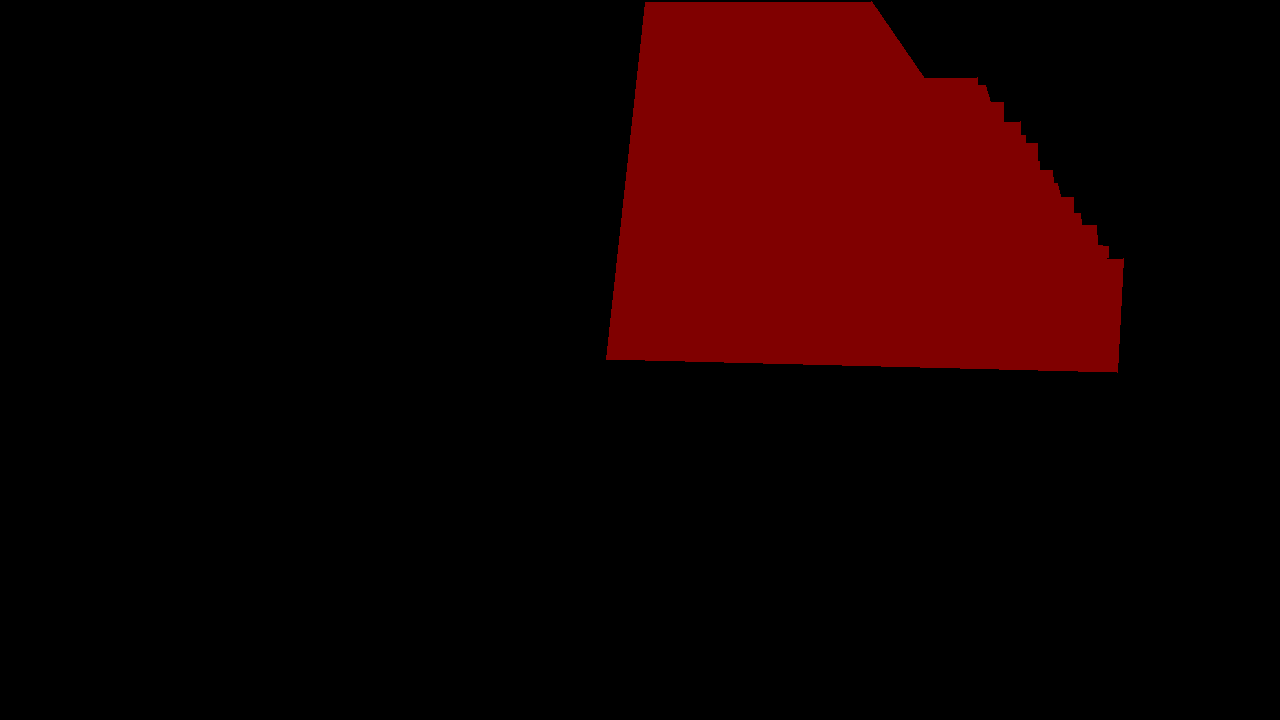stair: (606, 1, 1123, 372)
